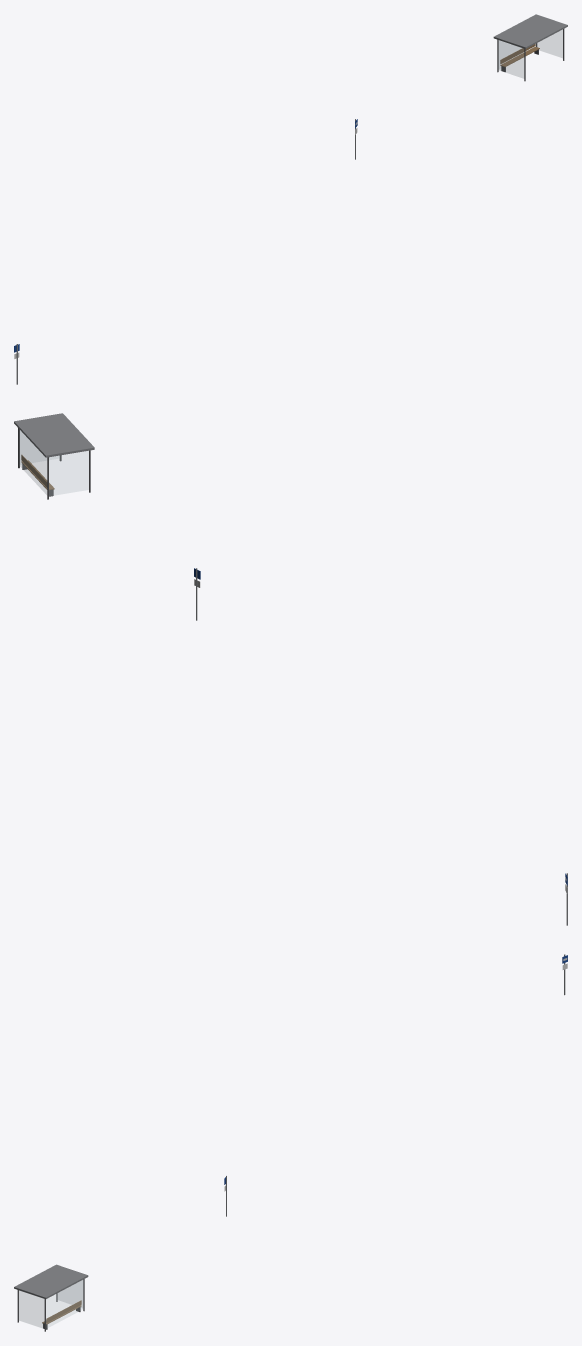
File: zastavky.glb
3 views of the same model, one above another, from view 1: azimuth 90°, elevation 25°; view 2: azimuth 150°, elevation 25°; view 3: azimuth 270°, elevation 25° (orthographic). The views are drawn at different scales.
Size of the model in its own units: 53.38 by 3.26 by 37.05.
